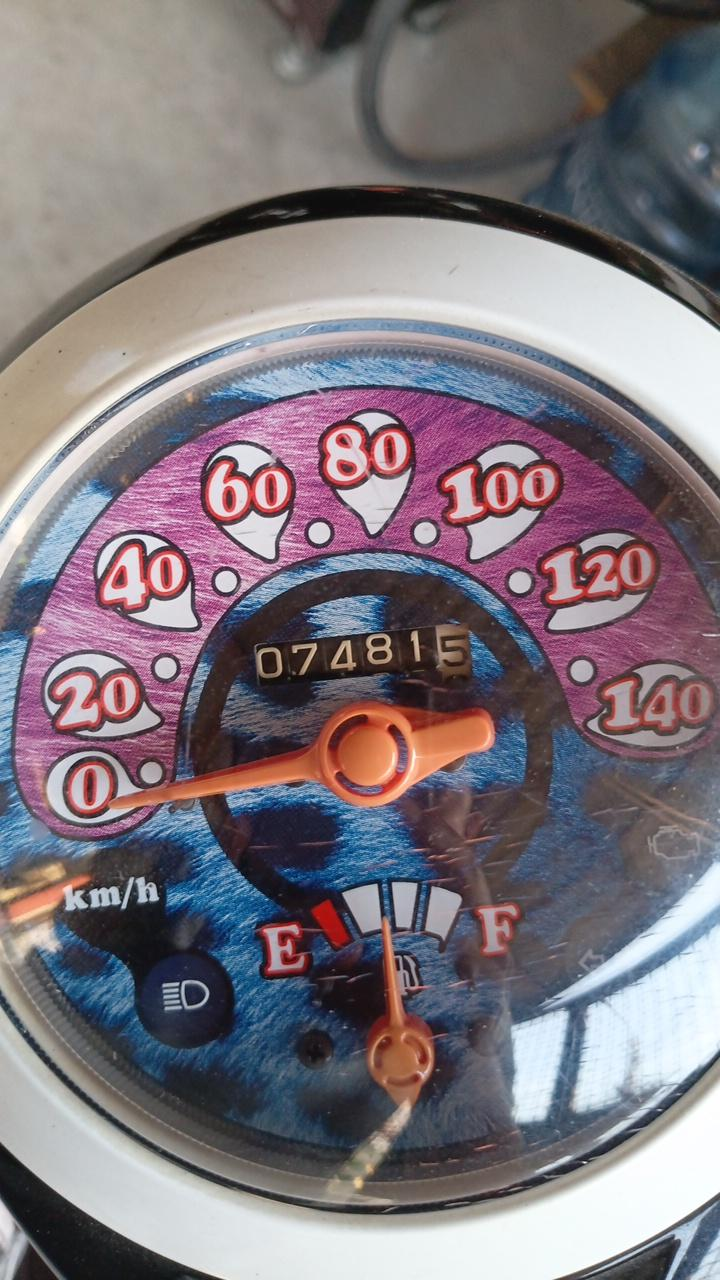0: (256, 647, 283, 679)
1: (409, 629, 424, 663)
4: (329, 640, 356, 672)
5: (439, 631, 469, 669)
7: (290, 642, 318, 678)
8: (366, 632, 393, 666)
odometer: (253, 618, 476, 692)
